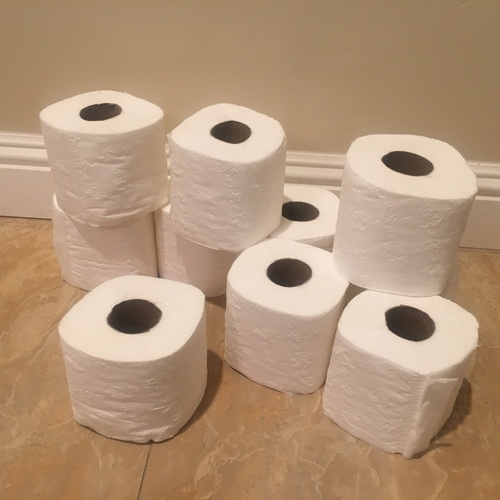roll: (322, 286, 481, 458), (56, 274, 208, 441), (331, 134, 479, 297), (224, 238, 349, 394), (38, 89, 170, 227), (166, 103, 287, 251), (51, 192, 161, 292), (154, 205, 244, 296), (272, 188, 339, 251)
